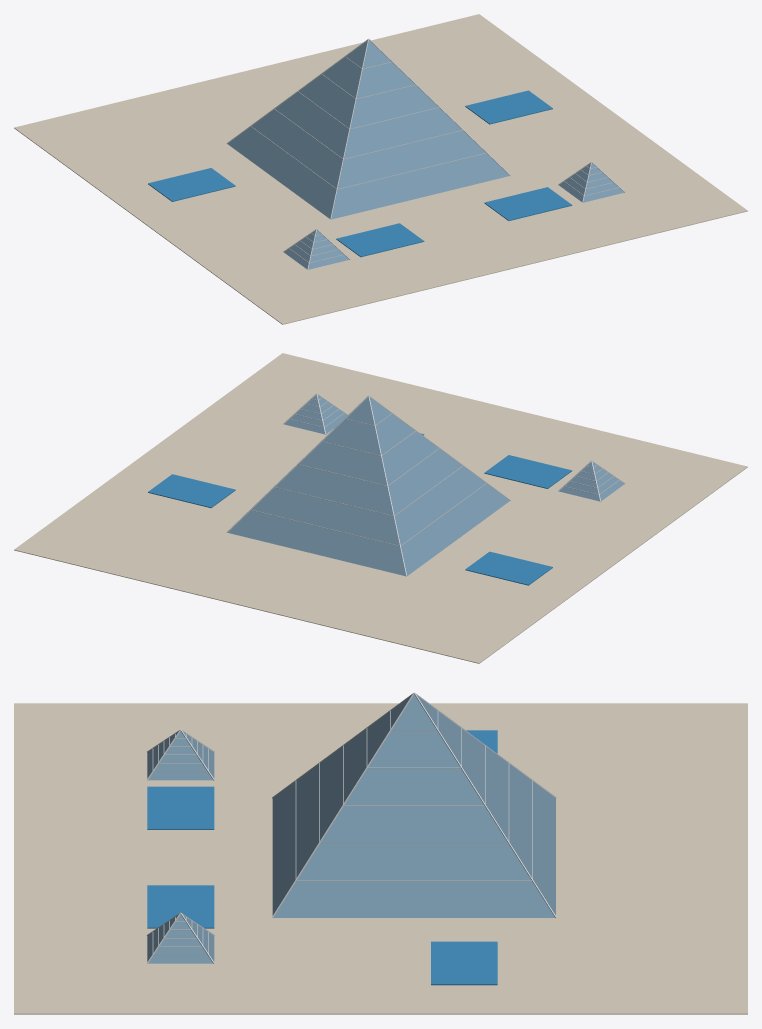
File: pyramid_hall.glb
The picture shows the model from 3 angles, top to bottom: view 1: azimuth 30°, elevation 25°; view 2: azimuth 150°, elevation 25°; view 3: azimuth 270°, elevation 25°; orthographic projection. The views are drawn at different scales.
Visible parts, largest first — view 1: Pyramid_static; view 2: Pyramid_static; view 3: Pyramid_static.
Part boxes in pixels (x1,y1,x2,y2): Pyramid_static: [14, 14, 747, 324]; Pyramid_static: [14, 353, 747, 663]; Pyramid_static: [14, 692, 747, 1014].
Size of the model in its own units: 88 by 22.06 by 88.
